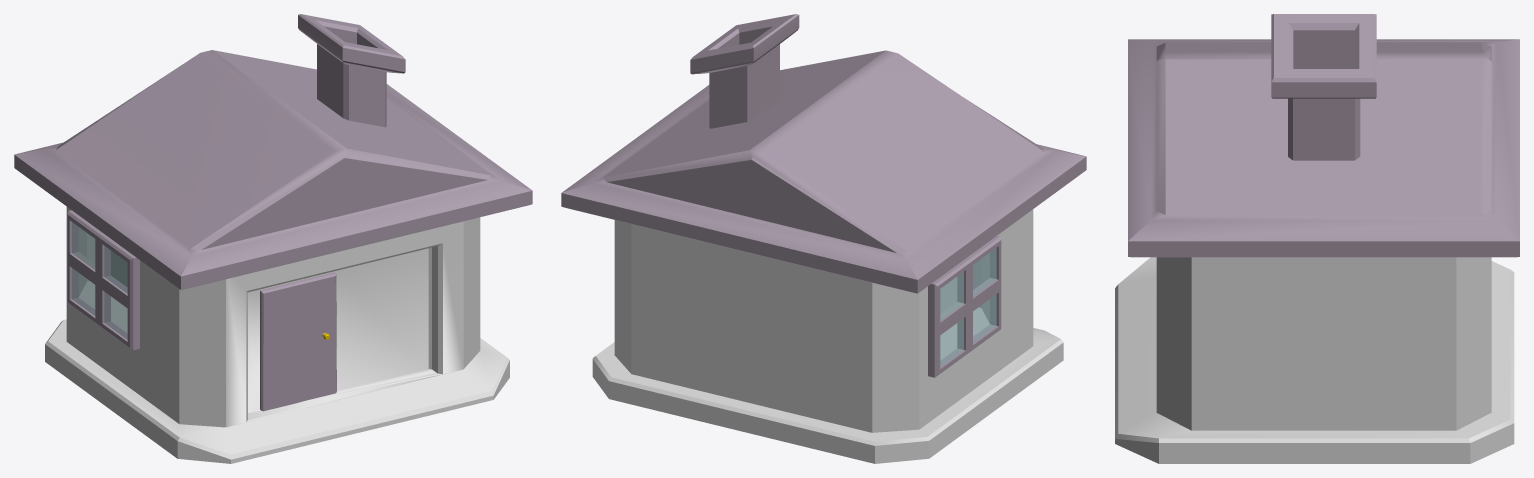
Rendered from HouseTextured.fbx.
The picture shows the model from 3 angles, left to right: view 1: azimuth 30°, elevation 25°; view 2: azimuth 150°, elevation 25°; view 3: azimuth 270°, elevation 25°; orthographic projection. The views are drawn at different scales.
Parts seen in each view (by area): view 1: pCube1; view 2: pCube1; view 3: pCube1.
Part boxes in pixels (box(x1,y1,x2,y2)): pCube1: box(14, 14, 532, 463); pCube1: box(561, 14, 1086, 463); pCube1: box(1115, 14, 1519, 463).
Size of the model in its own units: 5.35 by 4.73 by 4.54.
